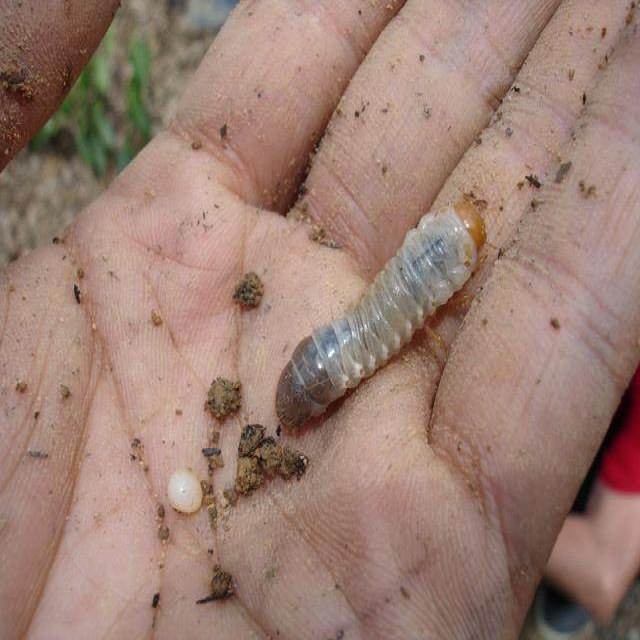Grub-Adult-: (266, 185, 502, 449)
